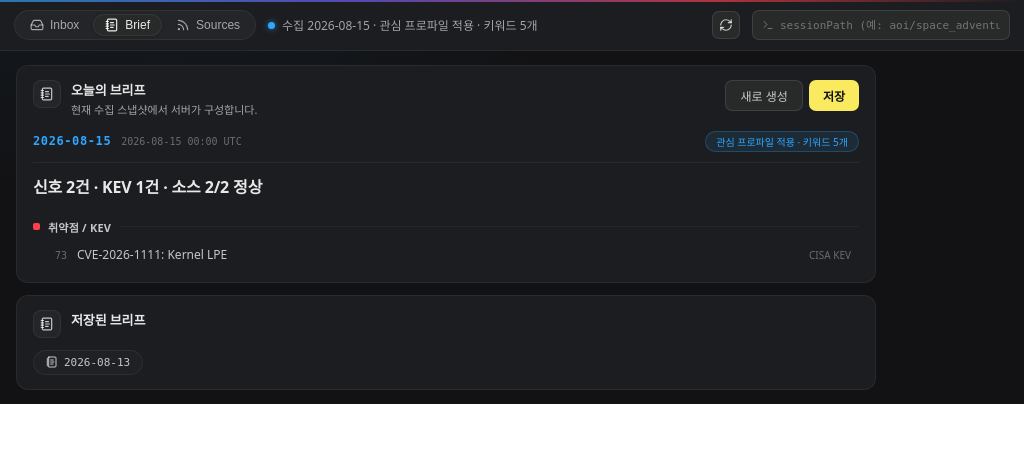
Test: saved briefs › reports a malformed saved brief as a format error, not as empty
This screenshot has width=1024, height=449.
Click the button with test id "signal-desk-saved-2026-08-13.json": (88, 362) left=33, top=350, right=143, bottom=374
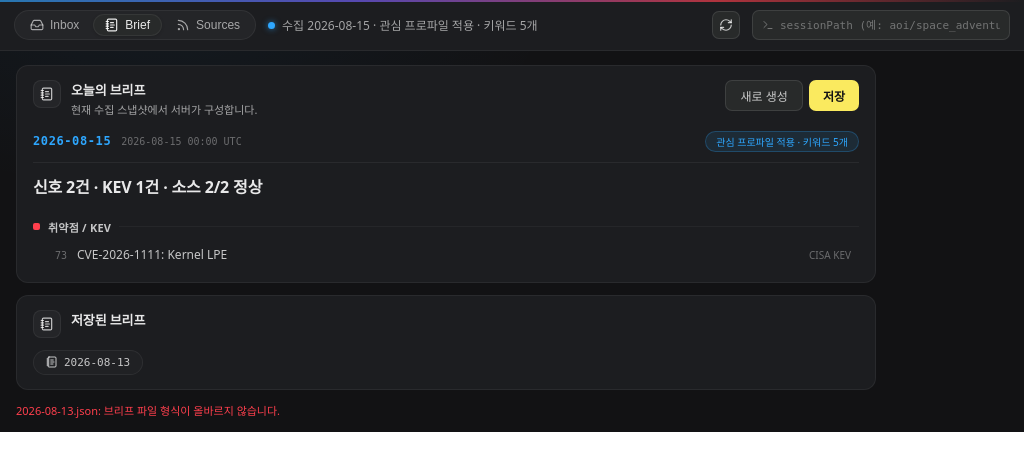
expect the text with test id "signal-desk-opened-error" shows "형식이 올바르지 않습니다": met, box left=104, top=402, right=280, bottom=418
